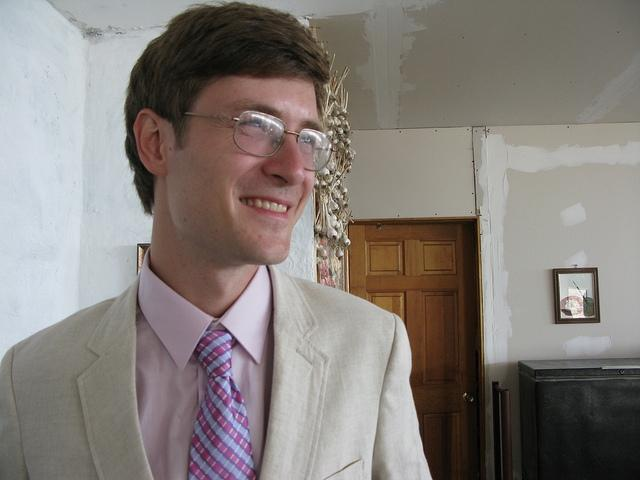garlic: (324, 202, 342, 250), (333, 66, 348, 96), (316, 236, 328, 260), (314, 202, 323, 232), (318, 195, 323, 234), (319, 167, 331, 181), (340, 234, 350, 250), (334, 102, 346, 115), (330, 194, 338, 211), (325, 216, 336, 228), (326, 193, 332, 215), (340, 185, 348, 200), (344, 160, 352, 174), (336, 247, 344, 260), (336, 148, 344, 160), (326, 115, 334, 126), (324, 176, 334, 184), (332, 191, 341, 199), (314, 178, 319, 191), (326, 162, 334, 170), (334, 220, 340, 230), (337, 127, 344, 135), (337, 132, 344, 140), (344, 148, 348, 155)
